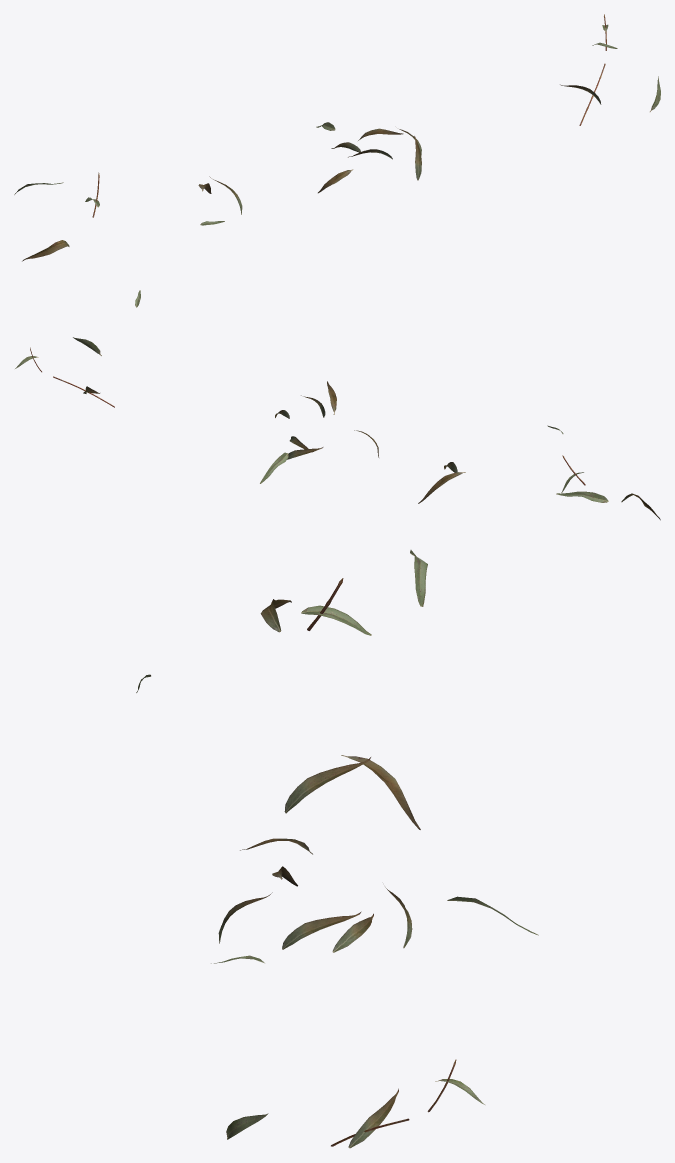
File: shrub_02.glb
The picture shows the model from 3 angles, top to bottom: view 1: azimuth 30°, elevation 25°; view 2: azimuth 150°, elevation 25°; view 3: azimuth 270°, elevation 25°; orthographic projection. The views are drawn at different scales.
Visible parts, largest first — view 1: shrub_02_c, shrub_02_d, shrub_02_a; view 2: shrub_02_c, shrub_02_a, shrub_02_d, shrub_02_b; view 3: shrub_02_c, shrub_02_b, shrub_02_d, shrub_02_a.
Boxes of the visible parts, box(x1,y1,x2,y2) form: shrub_02_c: box(316, 122, 421, 193); shrub_02_d: box(560, 14, 660, 125); shrub_02_a: box(14, 172, 99, 261); shrub_02_c: box(260, 381, 378, 483); shrub_02_a: box(556, 455, 660, 520); shrub_02_d: box(15, 290, 140, 407); shrub_02_b: box(418, 425, 563, 503); shrub_02_c: box(218, 838, 538, 952); shrub_02_b: box(136, 674, 420, 829); shrub_02_d: box(211, 955, 484, 1148); shrub_02_a: box(260, 550, 427, 635).
Bounding box in the file's own units: 5.59 × 0.8466 × 1.63.
1 material, 1 textured.
